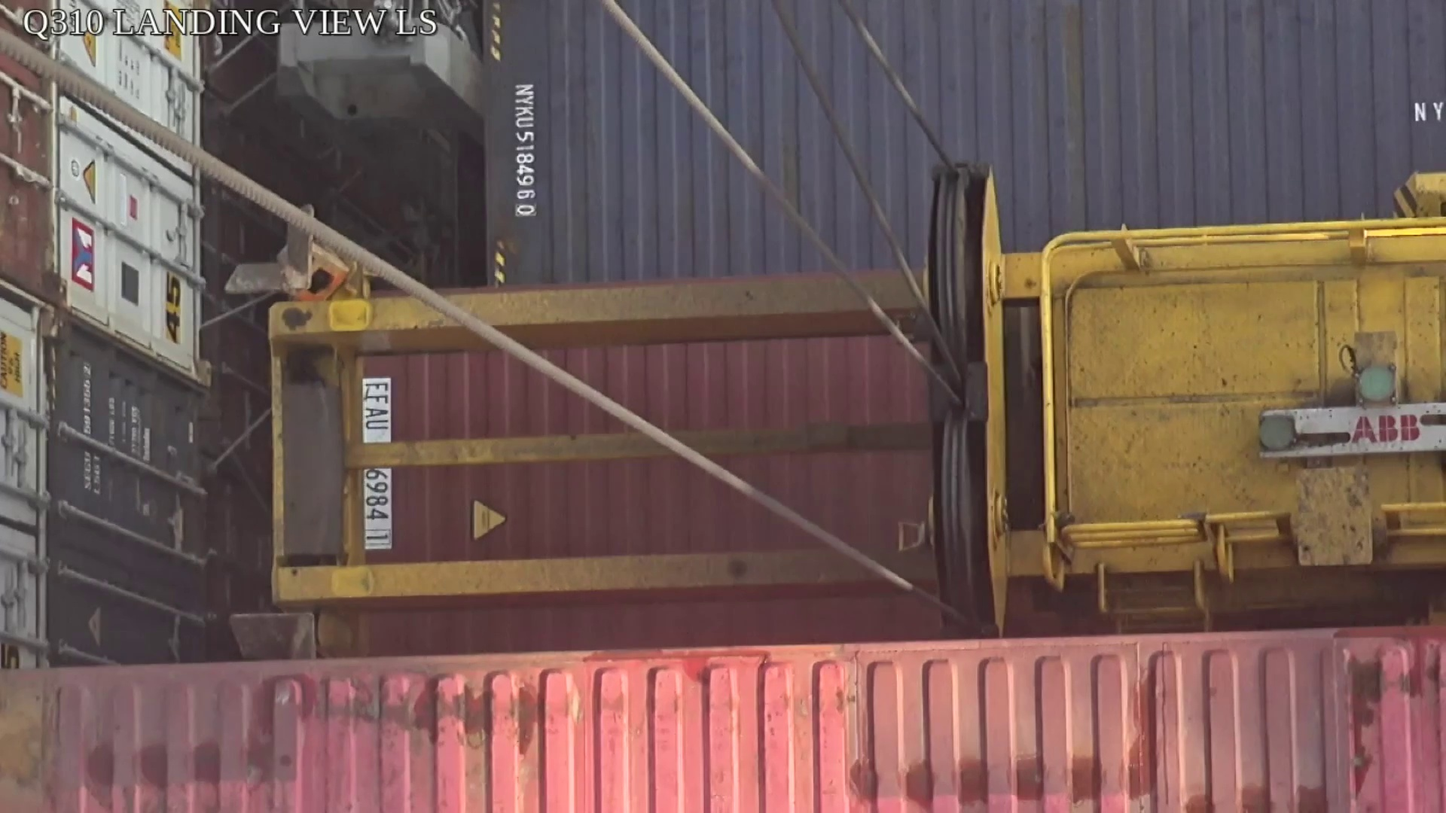aa: (922, 161, 1012, 634)
